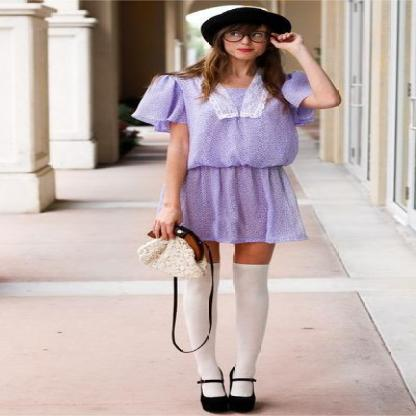bag: (145, 225, 211, 293)
dress: (131, 70, 320, 243)
hat: (201, 8, 290, 41)
shoe: (202, 367, 255, 396)
